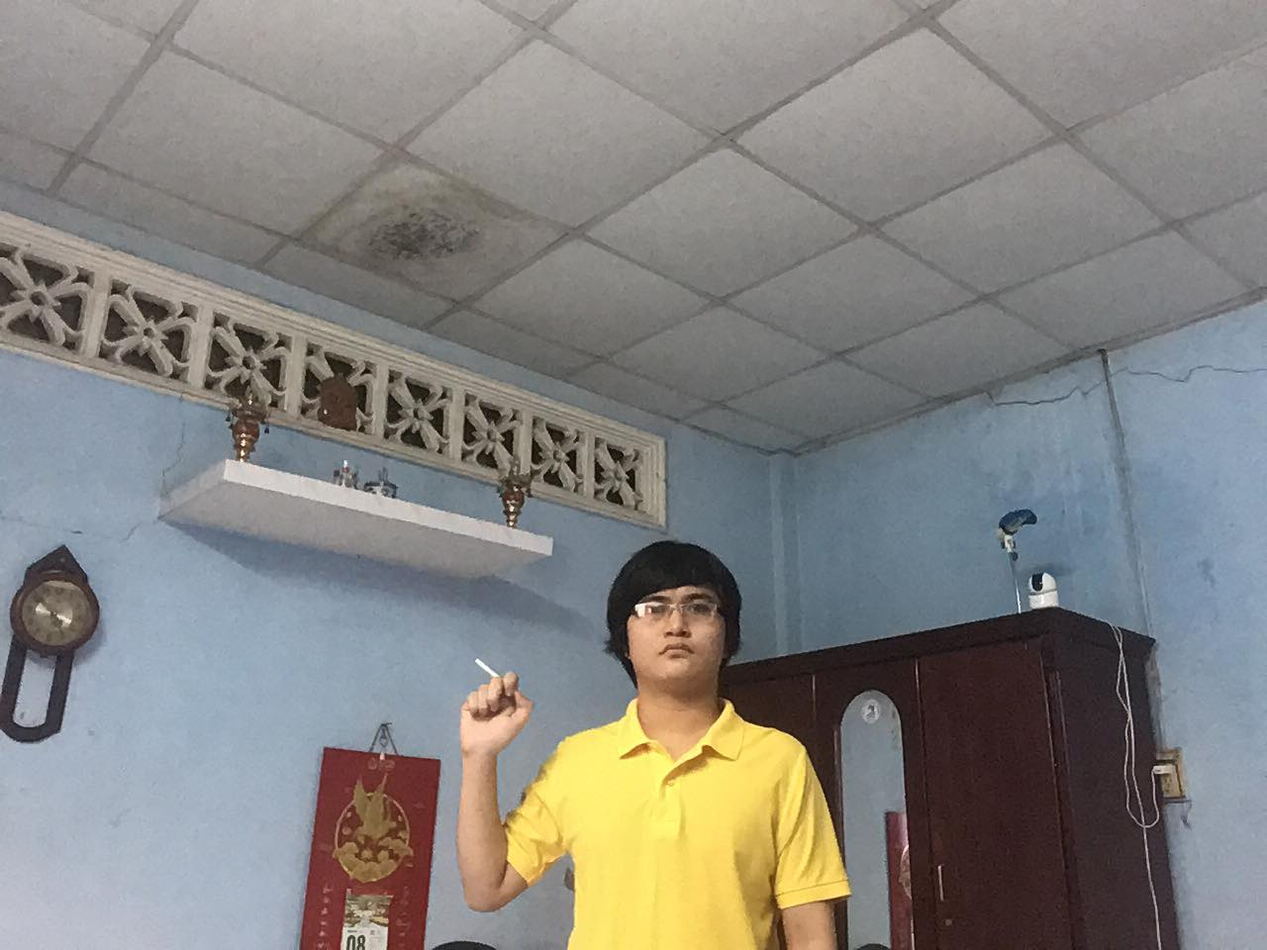cigarette: (470, 655, 500, 679)
person: (443, 538, 860, 950)
